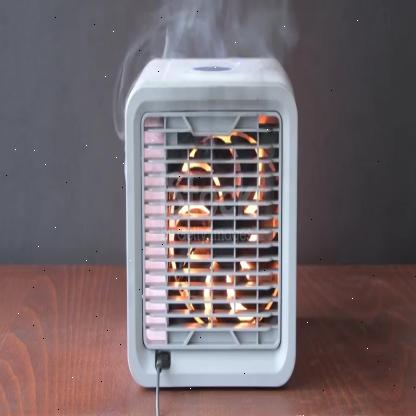smoke: (115, 1, 303, 152)
